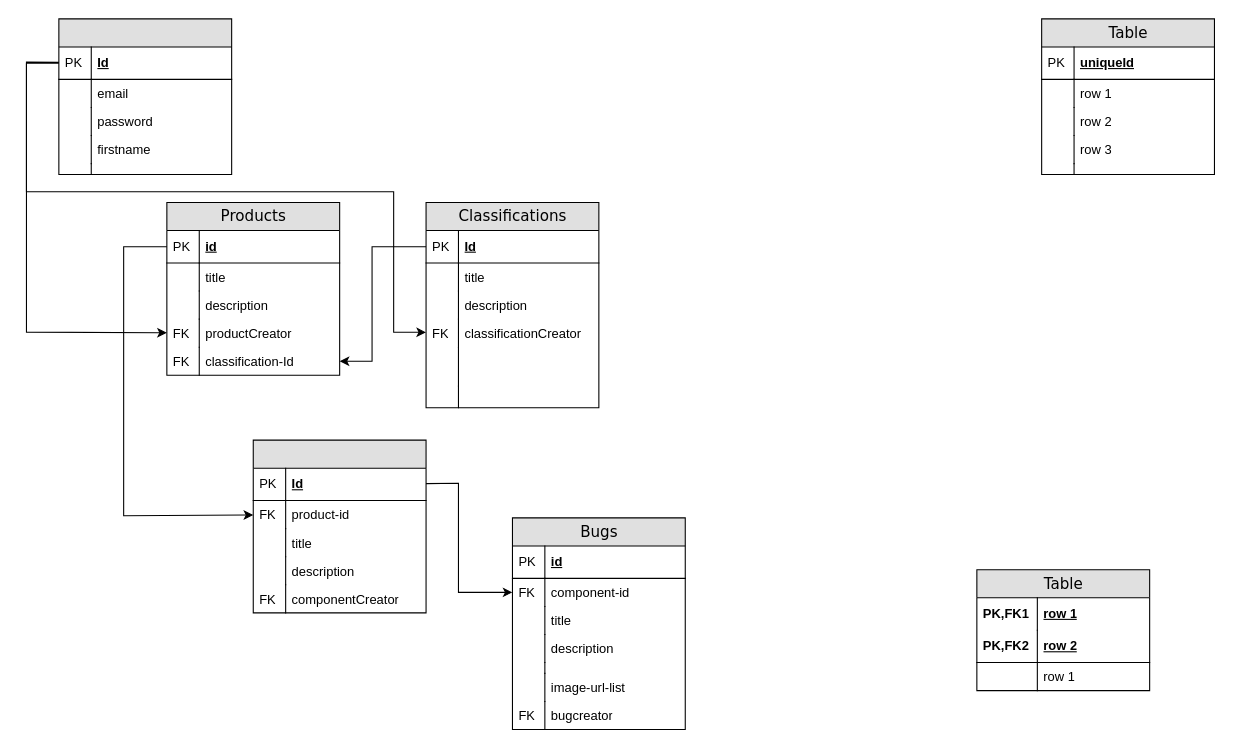
Image size: 1233x752. Some labels were removed from this diagram. The box of each missing label's shape, as (x1, y1, x2, y2) in pixels:
Components: (252, 439, 426, 613)
Users: (58, 18, 232, 174)
